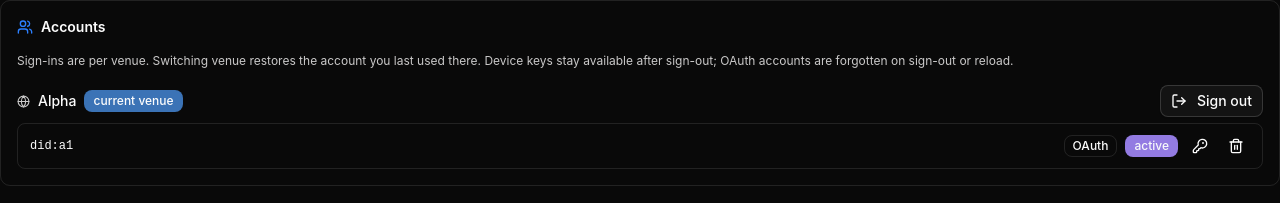
it: AccountsPanel › signs out of a venue and forgets its bearer accounts
Click the button with test id "venue-signout" at (1212, 101), box [1160,85,1263,117]
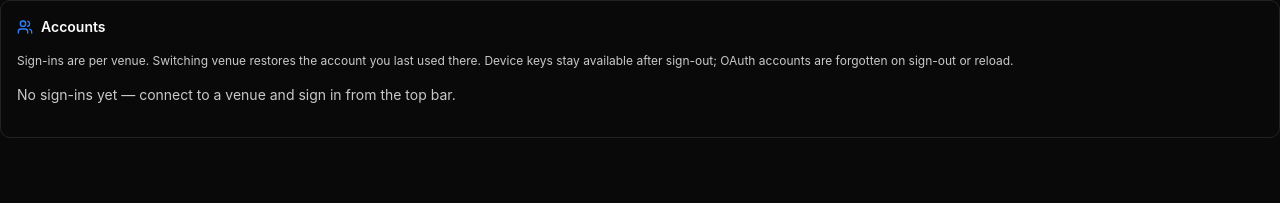
Check: the list item with test id "account-entry" is gone
